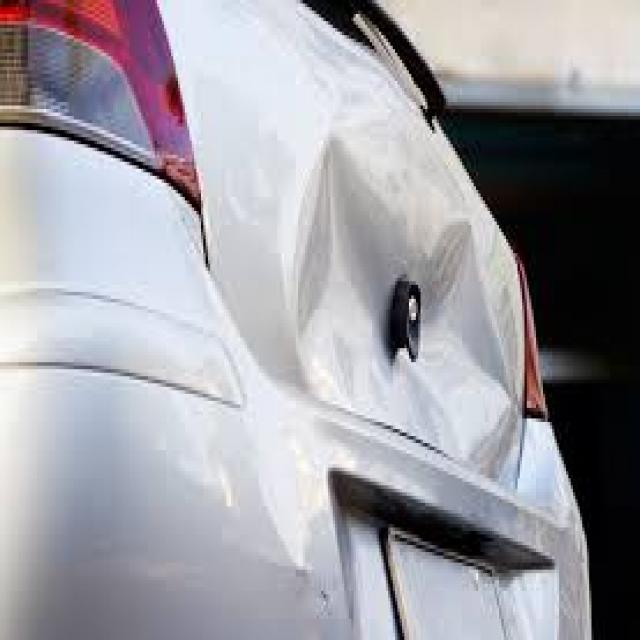minor: (171, 22, 548, 555)
